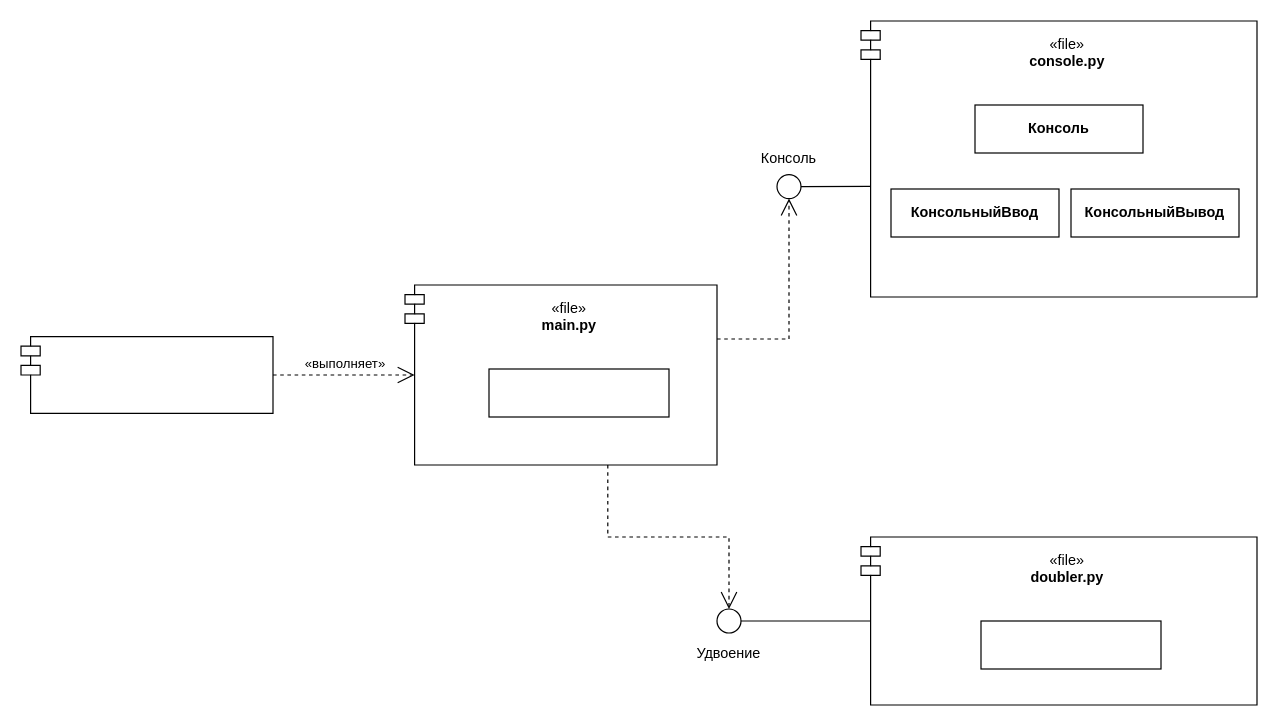
The diagram is 1278 pixels wide and 726 high, and some of its shapes have lost their labels. The centre of each missing label's shape, as x and y in pixels:
«executable» python.exe: point (146, 374)
Программа: point (578, 392)
Удвоитель: point (1070, 644)
